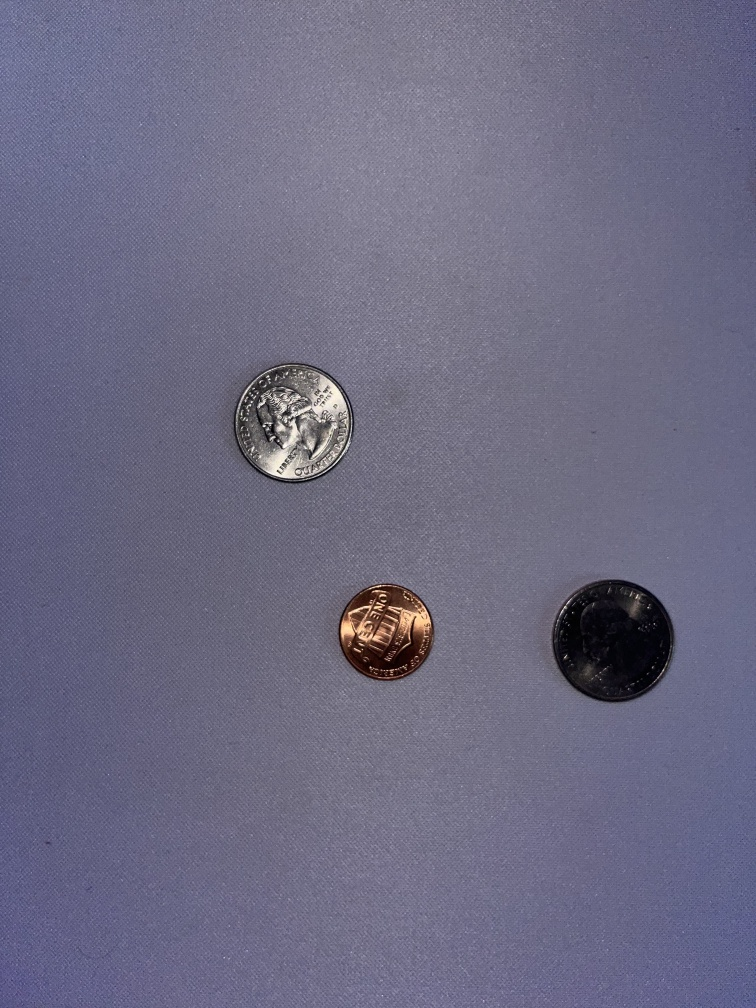penny: (331, 578, 441, 688)
quarter: (545, 576, 682, 711), (227, 359, 361, 488)
